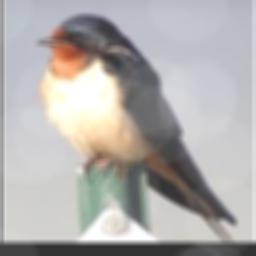Swallow: (36, 13, 238, 243)
